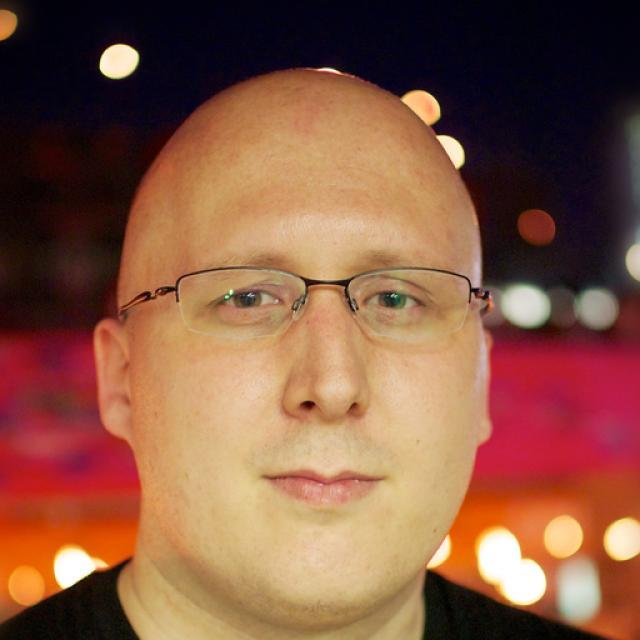content: (135, 128, 478, 618)
